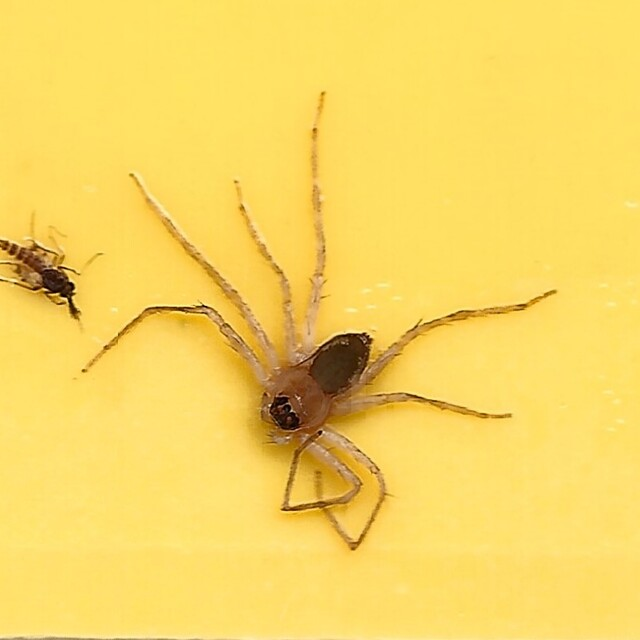Araneae: (80, 87, 560, 553)
